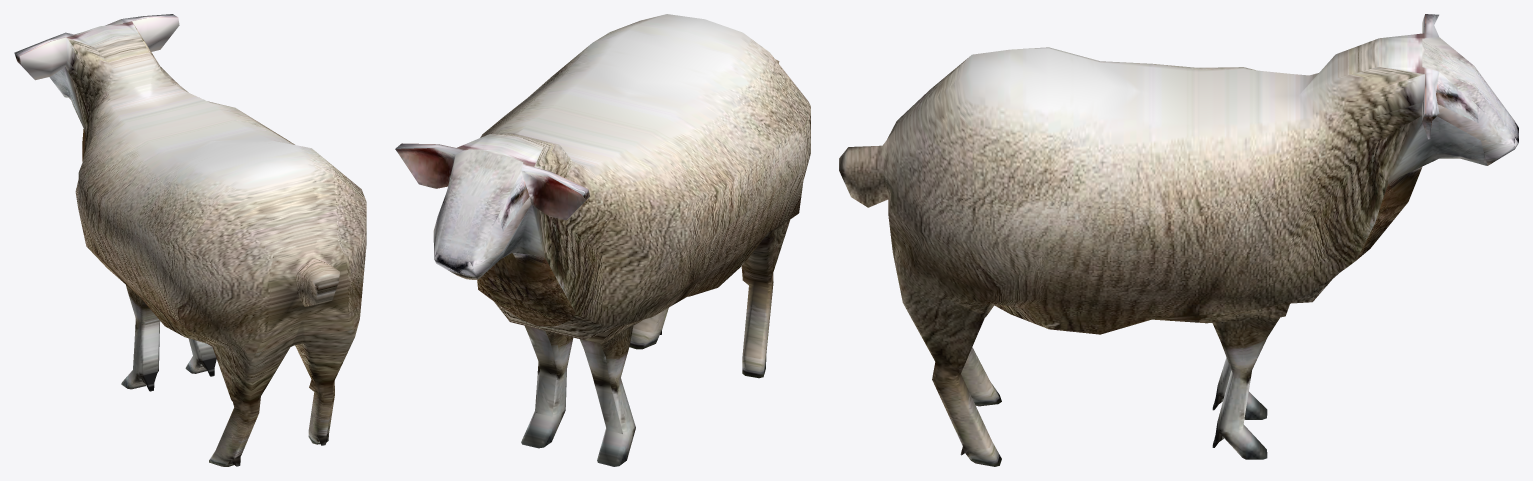
File: sheep.glb
3 views of the same model, side by side, from view 1: azimuth 30°, elevation 25°; view 2: azimuth 150°, elevation 25°; view 3: azimuth 270°, elevation 25° (orthographic). The views are drawn at different scales.
Parts seen in each view (by area): view 1: Cube; view 2: Cube; view 3: Cube.
Boxes of the visible parts, x1,y1,x2,y2 form: Cube: (14,14,366,466); Cube: (395,14,810,466); Cube: (839,14,1518,466).
Size of the model in its own units: 1.25 by 1.81 by 2.89.
Materials: 1 (1 with a texture image).
